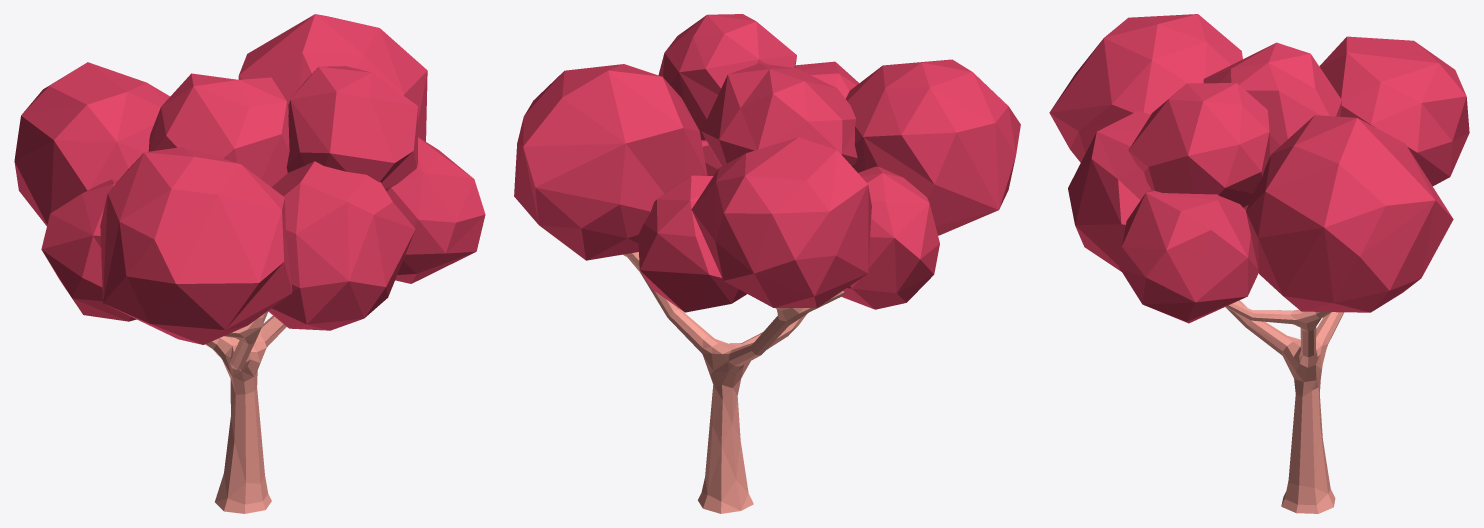
The model's file is Tree02.glb.
The picture shows the model from 3 angles, left to right: view 1: azimuth 30°, elevation 25°; view 2: azimuth 150°, elevation 25°; view 3: azimuth 270°, elevation 25°; orthographic projection. The views are drawn at different scales.
Visible parts, largest first — view 1: Leaves, TreeBark; view 2: Leaves, TreeBark; view 3: Leaves, TreeBark.
Part boxes in pixels (bbox=[...]): Leaves: bbox=[14, 14, 485, 344]; TreeBark: bbox=[205, 311, 286, 513]; Leaves: bbox=[514, 14, 1020, 312]; TreeBark: bbox=[623, 252, 844, 513]; Leaves: bbox=[1049, 14, 1469, 323]; TreeBark: bbox=[1225, 300, 1343, 513].
Size of the model in its own units: 10.07 by 10.78 by 9.35.
